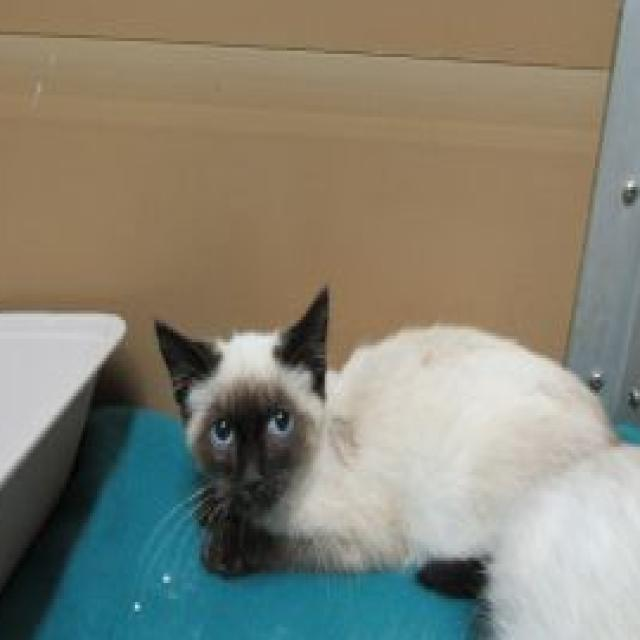Siamese: (150, 277, 625, 601)
